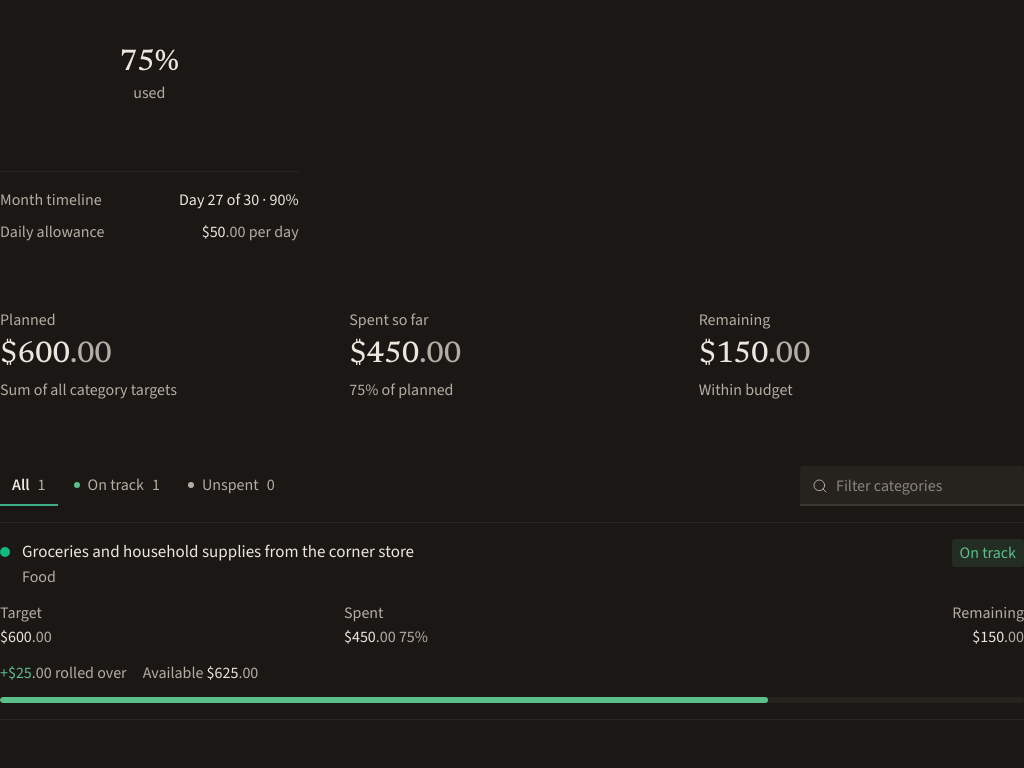
Test: Budget on a phone › opens a sheet with the actions, and Remove still asks first
Later steps or results of the test are not shown.
(page scrolled)
Click the 4th button at (512, 707), box [0,523,1023,719]
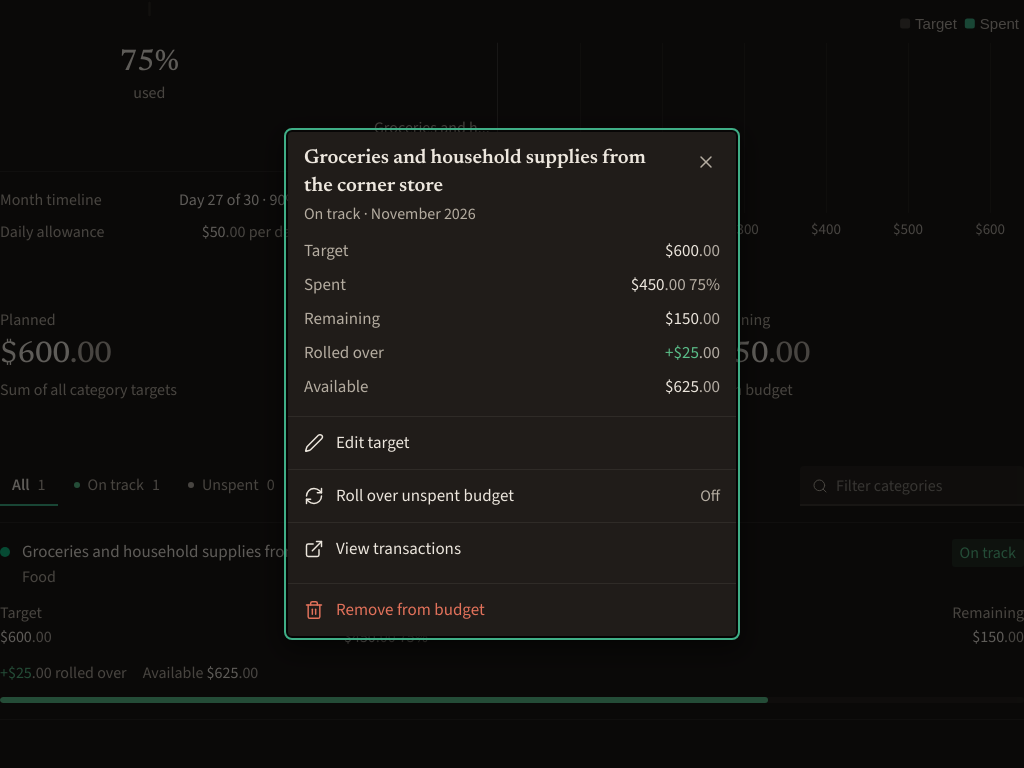
Expected: the text "Edit target" is shown, [336,431,410,454]
Expected: the button "Roll over unspent budget Off" is shown, [288,470,736,522]
Expected: the text "Remove from budget" is shown, [336,598,485,621]
